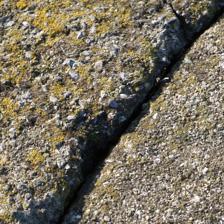Crack: (43, 13, 219, 220)
